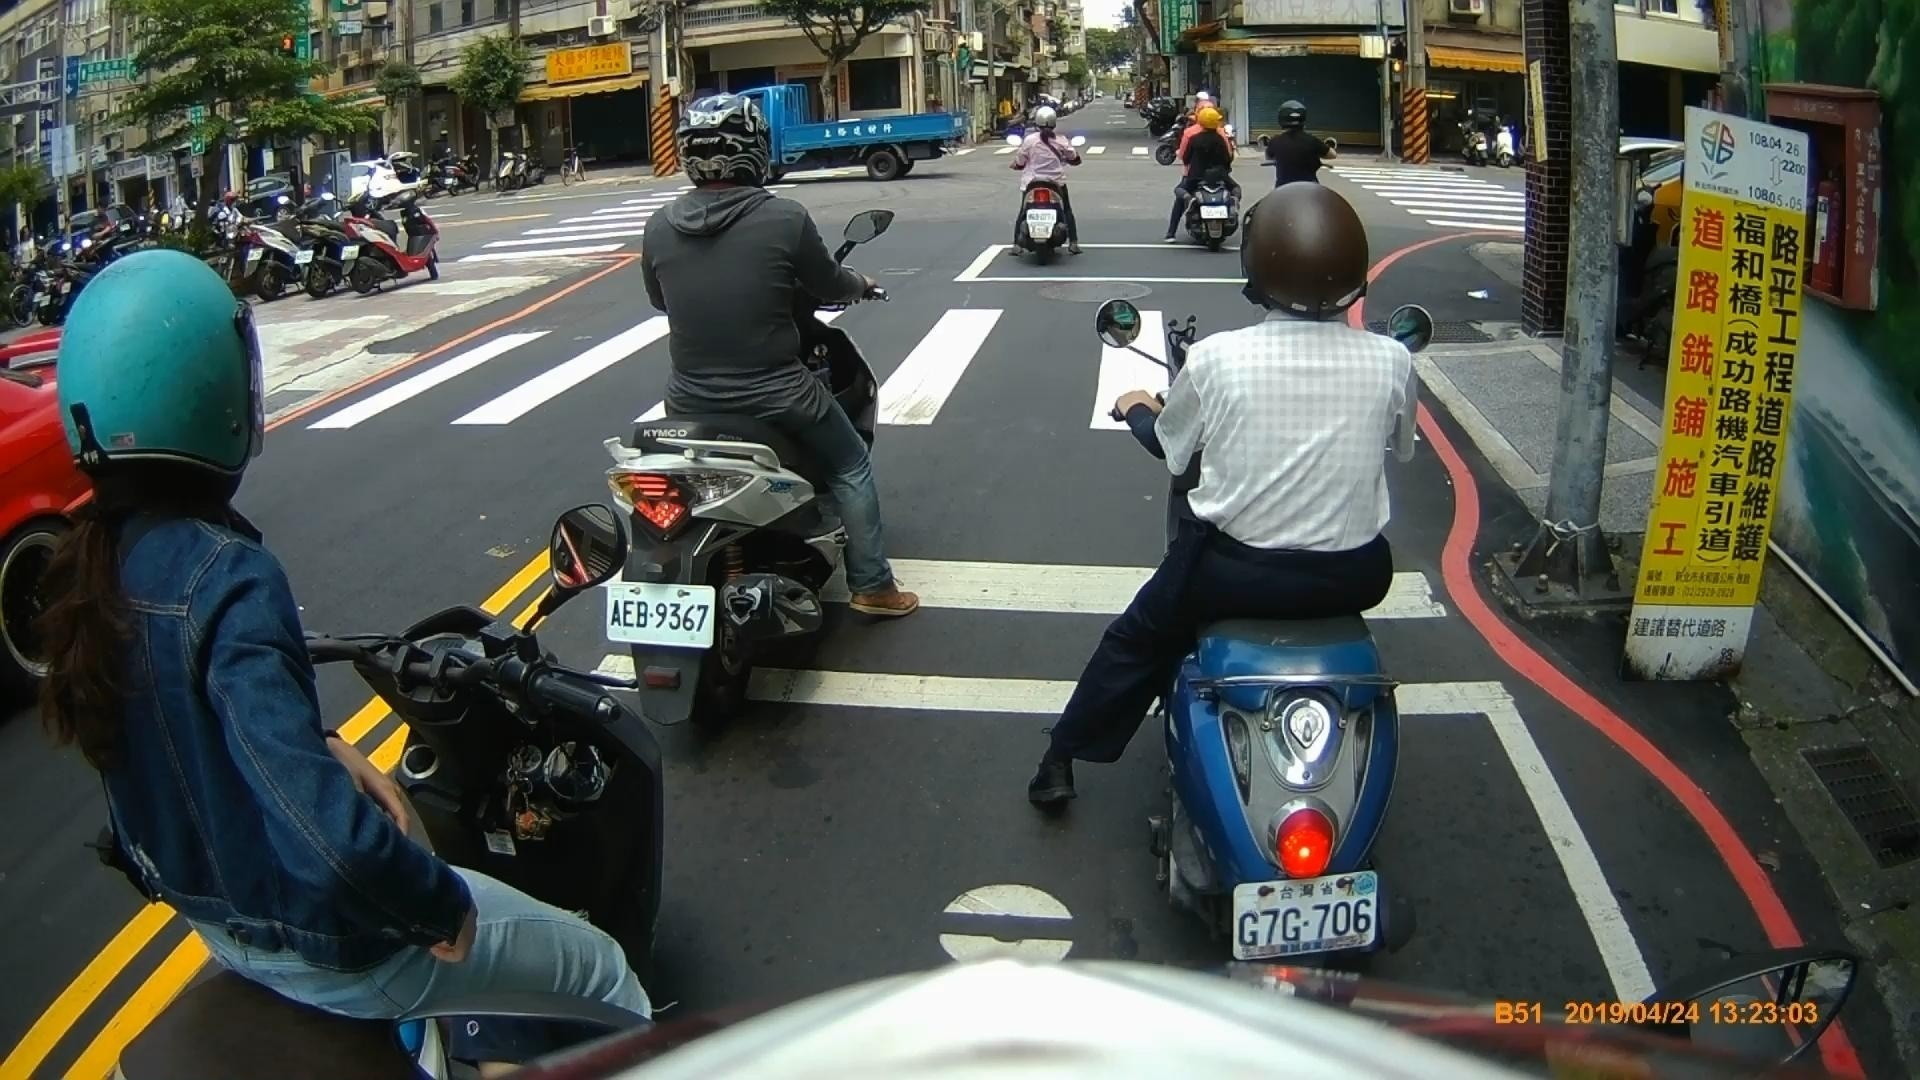License_plate: (1226, 872, 1376, 950), (603, 580, 716, 647)
